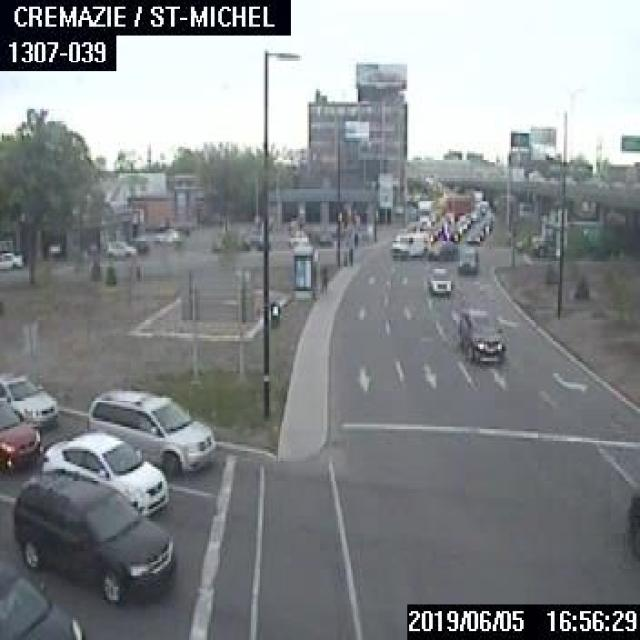pedestrian: (319, 264, 326, 297), (347, 245, 352, 265), (352, 230, 357, 246)
vehicle: (11, 472, 175, 604), (41, 429, 167, 521), (86, 386, 214, 476), (0, 560, 85, 638), (0, 372, 56, 430), (0, 398, 42, 471), (456, 306, 505, 360), (531, 223, 587, 257), (391, 231, 429, 257), (624, 490, 638, 556), (424, 238, 456, 260), (427, 267, 451, 293), (106, 239, 134, 258), (152, 226, 180, 245), (457, 245, 476, 271), (514, 229, 537, 249), (0, 251, 22, 267), (464, 227, 478, 243)
